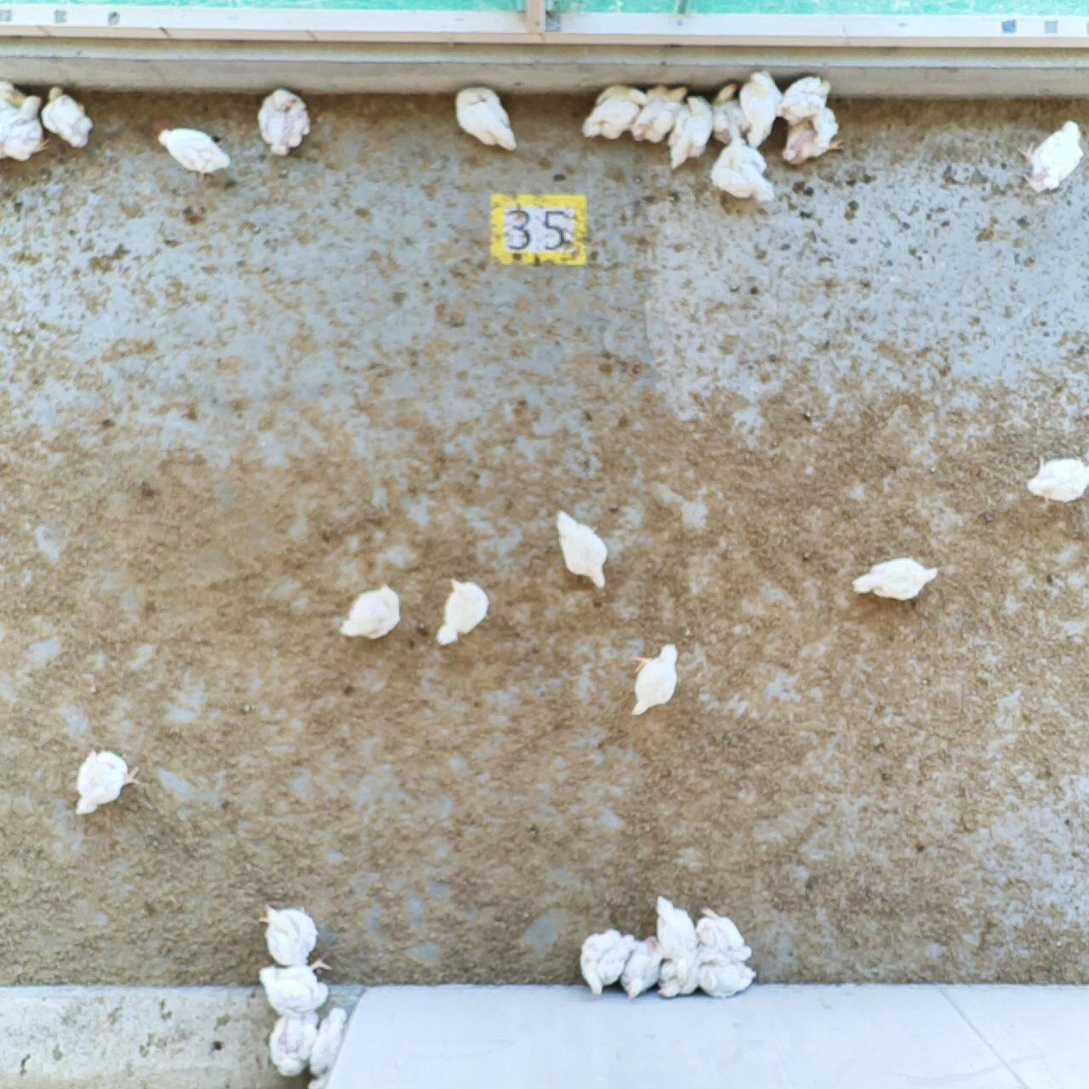chicken: (245, 78, 329, 165), (69, 733, 142, 827), (549, 508, 622, 594), (1012, 119, 1089, 198), (152, 119, 233, 193), (453, 83, 517, 167), (845, 551, 946, 603), (254, 952, 336, 1016), (334, 582, 410, 651), (629, 637, 685, 718), (714, 125, 773, 201), (258, 909, 327, 971), (433, 574, 490, 646), (577, 930, 634, 999), (579, 86, 647, 141), (666, 96, 714, 168), (656, 894, 694, 984), (1027, 456, 1089, 510), (695, 906, 752, 962), (302, 1007, 348, 1076), (267, 1012, 317, 1074), (40, 88, 92, 147), (782, 110, 841, 162), (634, 83, 685, 142), (741, 72, 780, 148), (0, 96, 44, 161), (775, 77, 830, 129), (621, 938, 659, 1002), (711, 82, 749, 145), (700, 961, 758, 999), (660, 953, 701, 998), (0, 79, 31, 107), (307, 1076, 329, 1089)
